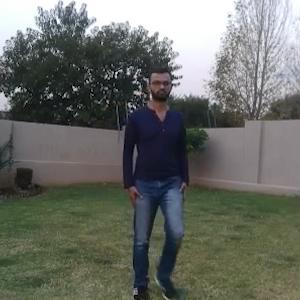follow: (128, 72, 188, 281)
